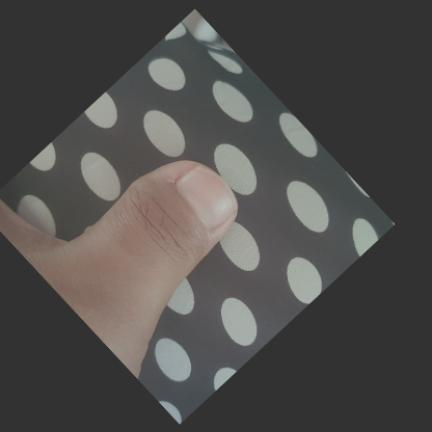Nail: (175, 166, 238, 230)
